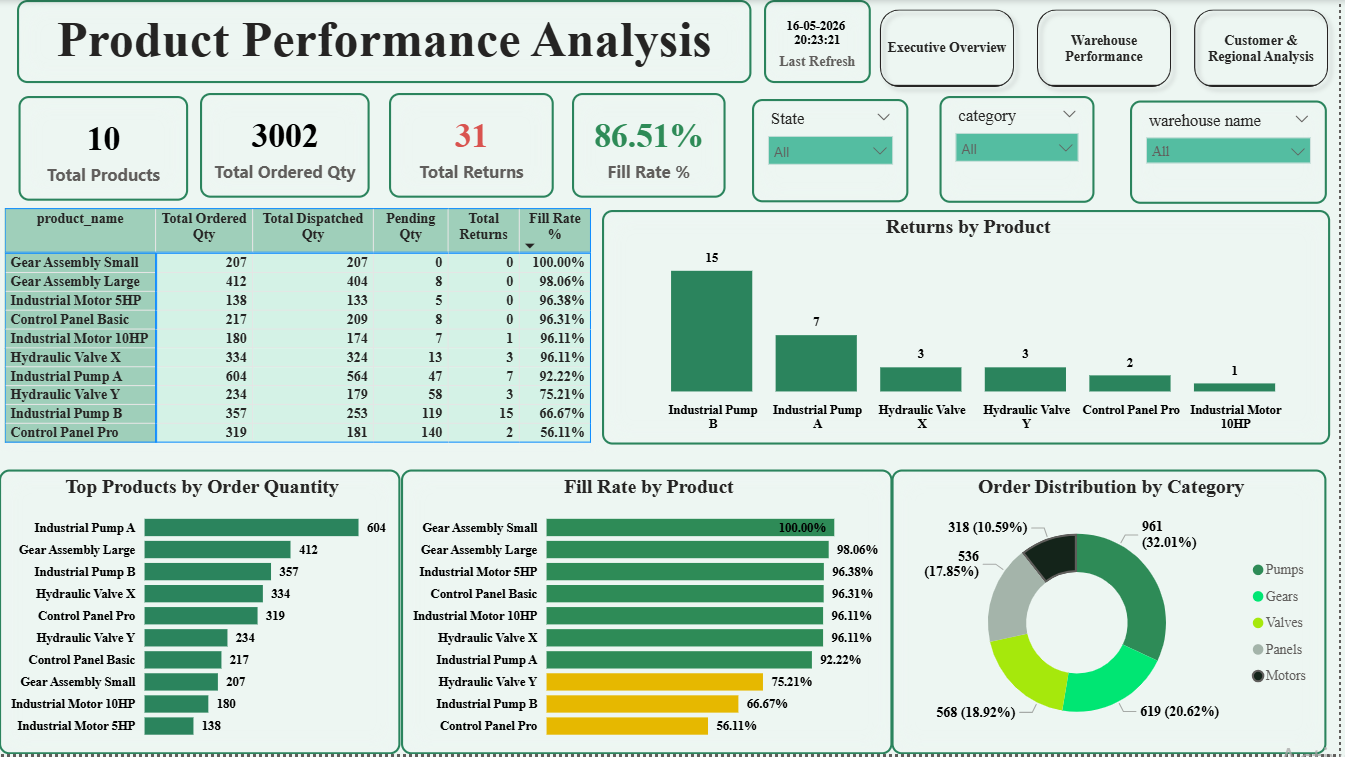

The dashboard page shown, as its layout file describes it:
{"tool":"powerbi","page":{"name":"Product Performance","canvas":[1280,720],"ordinal":3},"visuals":[{"type":"card","fields":{"Values":["Date_Table.Total Products"]},"box":[19.1,92.3,162.2,100.2],"z":0},{"type":"card","fields":{"Values":["fact_order_fulfillment.Total Ordered Qty"]},"box":[192.5,89.1,162.2,100.2],"z":1000},{"type":"card","fields":{"Values":["fact_order_fulfillment.Total Returns"]},"box":[372.2,89.1,157.5,100.2],"z":2000},{"type":"card","fields":{"Values":["fact_order_fulfillment.Fill Rate %"]},"box":[547.2,89.1,146.3,100.2],"z":3000},{"type":"clusteredBarChart","title":"Top Products by Order Quantity","fields":{"Y":["fact_order_fulfillment.Total Ordered Qty"],"Category":["Query1.product_name"]},"box":[0,448.6,383.3,272],"z":4000},{"type":"clusteredBarChart","title":"Fill Rate by Product","fields":{"Y":["fact_order_fulfillment.Fill Rate %"],"Category":["Query1.product_name"]},"box":[383.3,448.6,469.2,272],"z":5000},{"type":"slicer","fields":{"Values":["Query1.state"]},"box":[719,93.8,149.5,98.6],"z":6000},{"type":"slicer","fields":{"Values":["Query1.category"]},"box":[898.7,92.3,147.9,101.8],"z":7000},{"type":"slicer","fields":{"Values":["Query1.warehouse_name"]},"box":[1080,95.4,187.7,98.6],"z":8000},{"type":"textbox","box":[17.5,0,701.5,79.5],"z":9000},{"type":"card","fields":{"Values":["Date_Table.Last Refresh"]},"box":[730.1,0,101.8,79.5],"z":10000},{"type":"clusteredColumnChart","title":"Returns by Product","fields":{"Y":["fact_order_fulfillment.Total Returns"],"Category":["Query1.product_name"]},"box":[575.8,200.4,695.1,224.3],"z":11000},{"type":"donutChart","title":"Order Distribution by Category","fields":{"Y":["fact_order_fulfillment.Total Ordered Qty"],"Category":["Query1.category"]},"box":[852.6,448.6,415.1,272],"z":12000},{"type":"pivotTable","fields":{"Values":["fact_order_fulfillment.Total Ordered Qty","fact_order_fulfillment.Total Dispatched Qty","fact_order_fulfillment.Pending Qty","fact_order_fulfillment.Total Returns","fact_order_fulfillment.Fill Rate %"],"Rows":["Query1.product_name"]},"box":[0,194.1,575.8,238.6],"z":13000},{"type":"pageNavigator","box":[831.9,0,448.6,92.3],"z":14000}]}

Visuals, with their boxes in screenshot pixels (x1, y1, x2, y2), scaled from the page's 1280x720 canvas onto the 1345x757 screenshot:
card - Date_Table.Total Products: crop(20, 97, 191, 202)
card - fact_order_fulfillment.Total Ordered Qty: crop(202, 94, 373, 199)
card - fact_order_fulfillment.Total Returns: crop(391, 94, 557, 199)
card - fact_order_fulfillment.Fill Rate %: crop(575, 94, 729, 199)
"Top Products by Order Quantity" clusteredBarChart: crop(0, 472, 403, 756)
"Fill Rate by Product" clusteredBarChart: crop(403, 472, 896, 756)
slicer - Query1.state: crop(756, 99, 913, 202)
slicer - Query1.category: crop(944, 97, 1100, 204)
slicer - Query1.warehouse_name: crop(1135, 100, 1332, 204)
textbox: crop(18, 0, 756, 84)
card - Date_Table.Last Refresh: crop(767, 0, 874, 84)
"Returns by Product" clusteredColumnChart: crop(605, 211, 1335, 447)
"Order Distribution by Category" donutChart: crop(896, 472, 1332, 756)
pivotTable - fact_order_fulfillment.Total Ordered Qty x fact_order_fulfillment.Total Dispatched Qty: crop(0, 204, 605, 455)
pageNavigator: crop(874, 0, 1344, 97)
